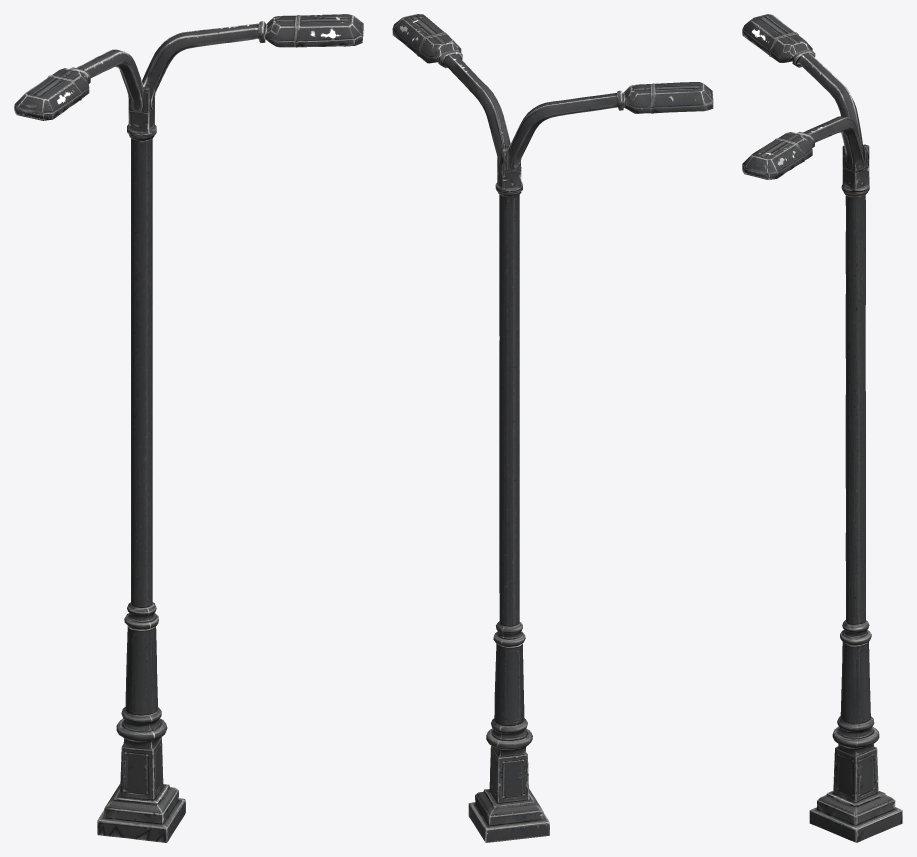
Rendered from kw_light.glb.
The picture shows the model from 3 angles, left to right: view 1: azimuth 30°, elevation 25°; view 2: azimuth 150°, elevation 25°; view 3: azimuth 270°, elevation 25°; orthographic projection. The views are drawn at different scales.
Visible parts, largest first — view 1: frame; view 2: frame; view 3: frame.
Part boxes in pixels (left/top/right/bottom): frame: left=14, top=14, right=363, bottom=842; frame: left=392, top=14, right=713, bottom=842; frame: left=742, top=14, right=902, bottom=842.
Bounding box in the file's own units: 4.07 × 9 × 1.78.
Materials: 1 (1 with a texture image).
